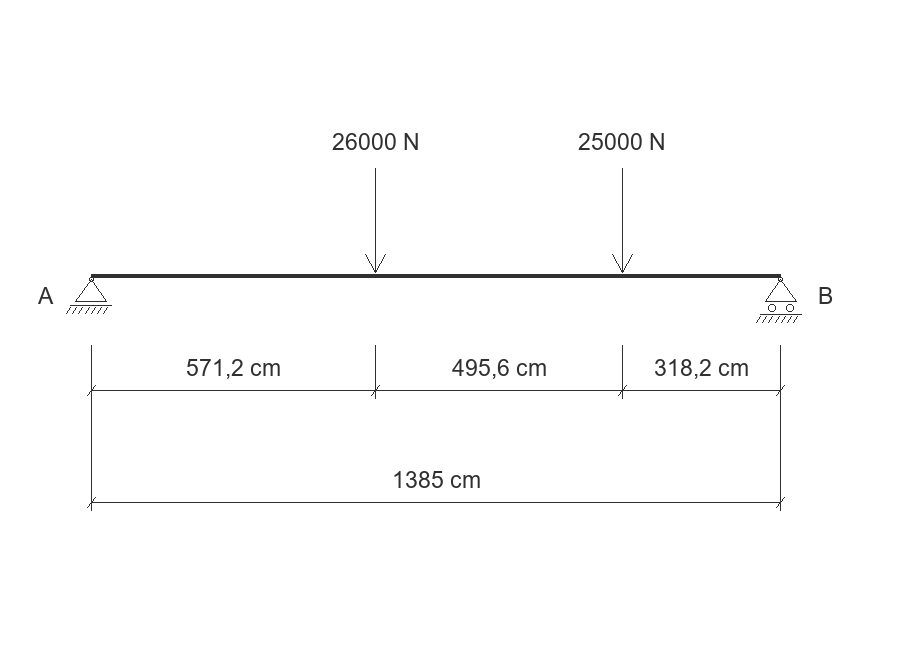pin_support: (66, 277, 112, 314)
point_load: (365, 168, 386, 273), (612, 168, 633, 273)
roller_support: (756, 277, 802, 323)
